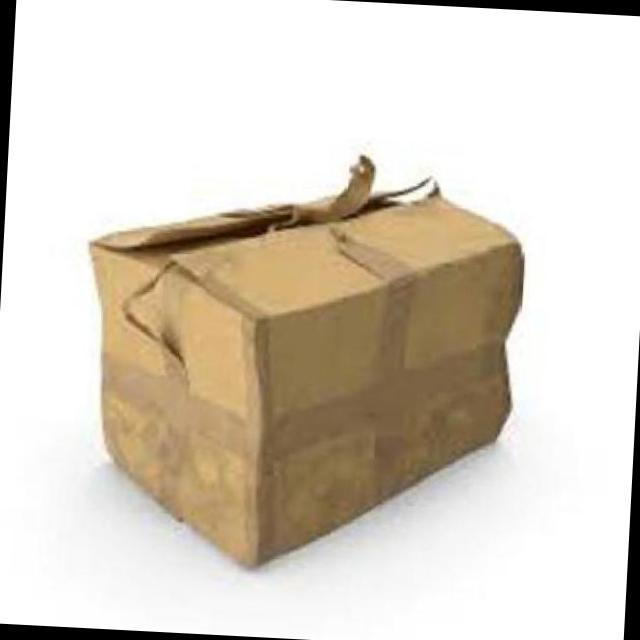opened: (93, 359, 516, 562)
tear: (97, 173, 445, 273)
